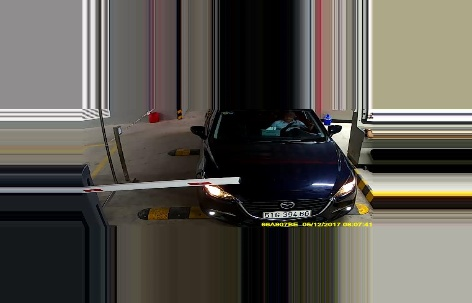plate: (262, 209, 312, 221)
